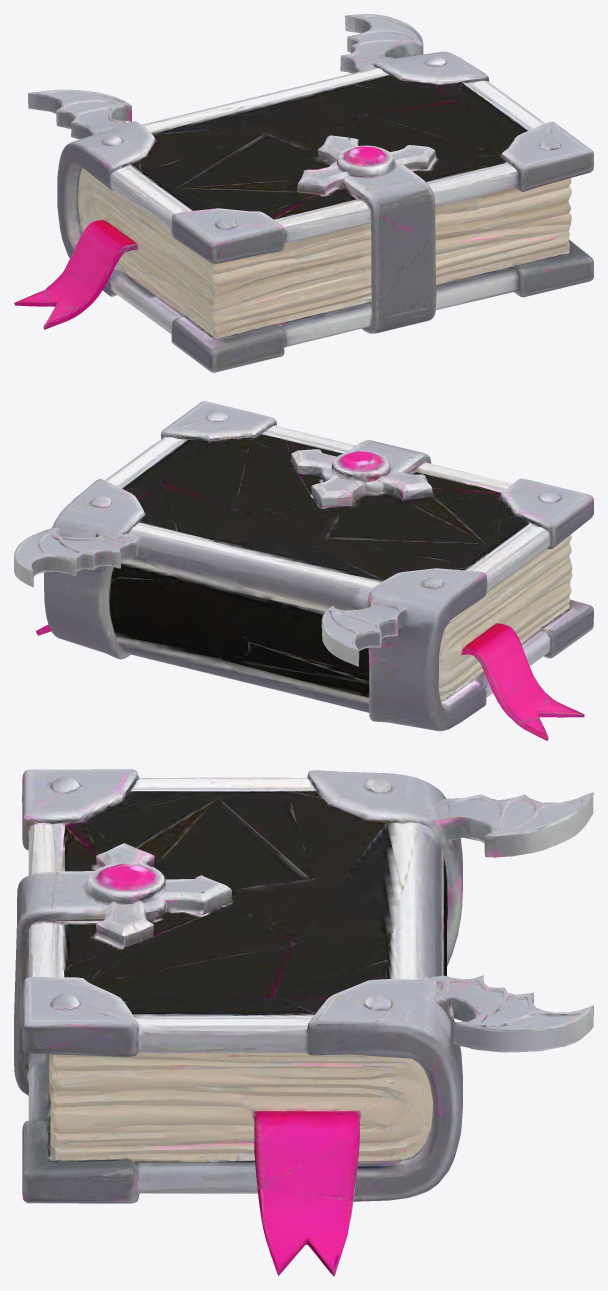
The model's file is i-stories.glb.
3 views of the same model, one above another, from view 1: azimuth 30°, elevation 25°; view 2: azimuth 150°, elevation 25°; view 3: azimuth 270°, elevation 25° (orthographic). The views are drawn at different scales.
Visible parts, largest first — view 1: Mesh_0; view 2: Mesh_0; view 3: Mesh_0.
Part boxes in pixels (x1=…): Mesh_0: x1=14, y1=14, x2=593, y2=372; Mesh_0: x1=14, y1=401, x2=593, y2=740; Mesh_0: x1=14, y1=769, x2=593, y2=1276.
Size of the model in its own units: 1.89 by 0.6251 by 1.35.
1 material, 1 textured.
